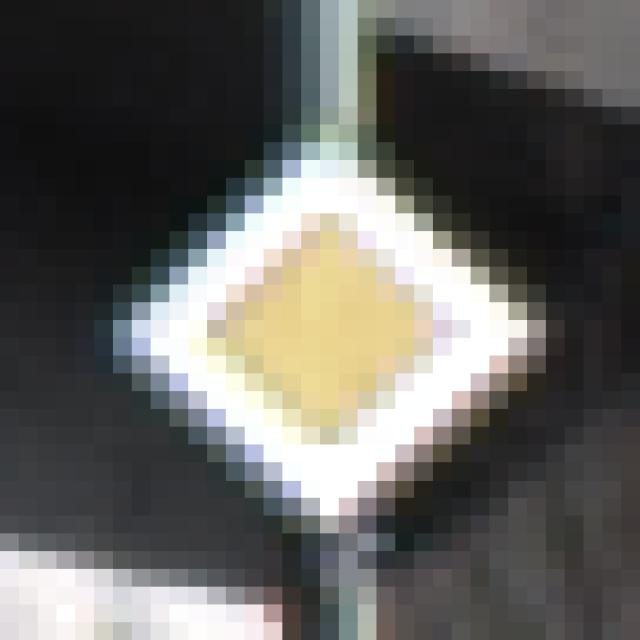Main Road: (95, 108, 547, 552)
